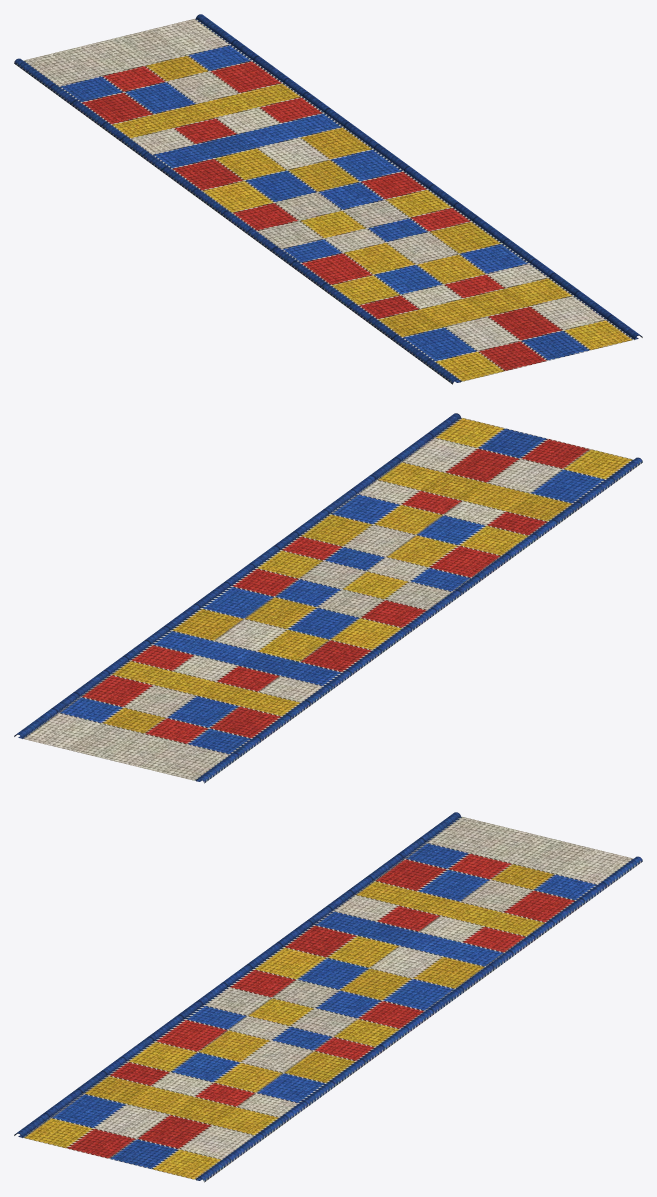
File: rug_runner_medium.glb
3 views of the same model, one above another, from view 1: azimuth 30°, elevation 25°; view 2: azimuth 150°, elevation 25°; view 3: azimuth 330°, elevation 25° (orthographic).
Visible parts, largest first — view 1: RugRunner; view 2: RugRunner; view 3: RugRunner.
Part boxes in pixels (box(x1,y1,x2,y2)): RugRunner: box(14, 14, 642, 384); RugRunner: box(14, 413, 642, 783); RugRunner: box(14, 812, 642, 1182).
Bounding box in the file's own units: 6 × 0.117 × 24.
1 material, 1 textured.
